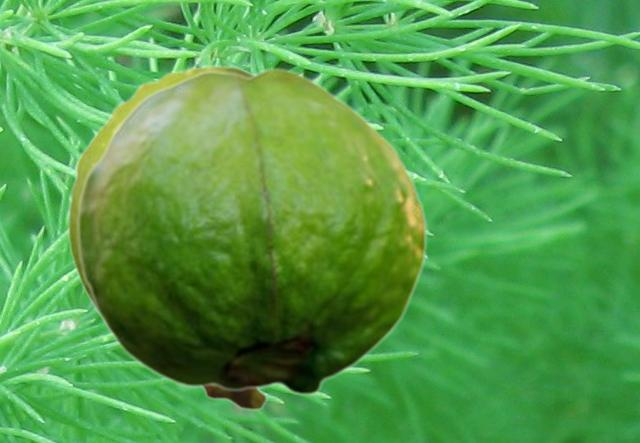guava: (76, 66, 426, 396), (66, 63, 270, 410)
